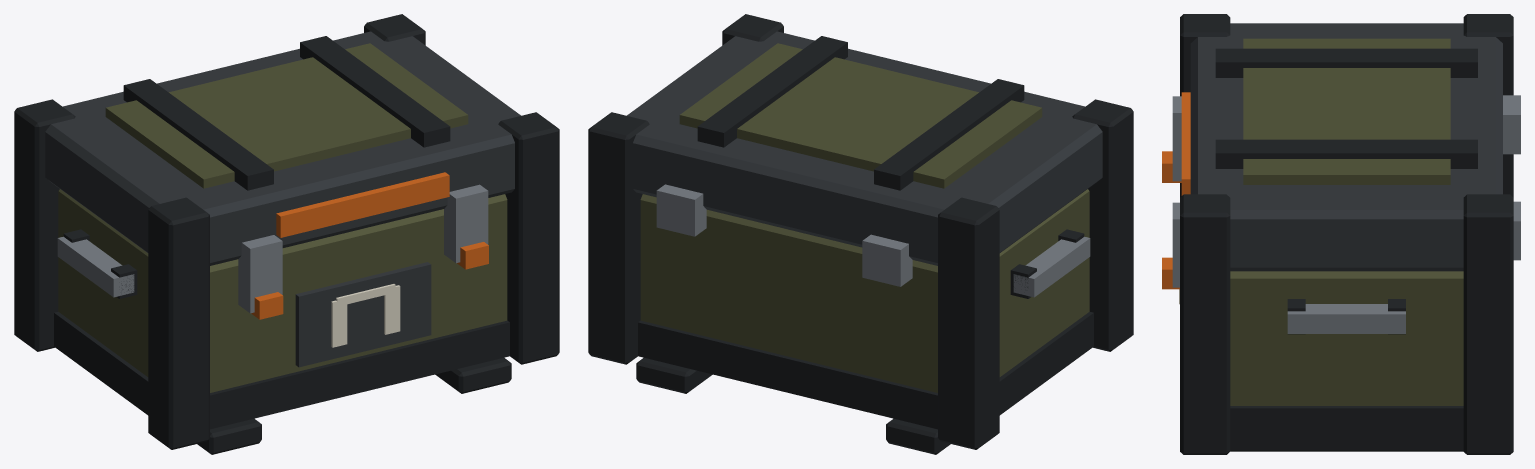
Rendered from desert_crate_small.fbx.
3 views of the same model, side by side, from view 1: azimuth 30°, elevation 25°; view 2: azimuth 150°, elevation 25°; view 3: azimuth 270°, elevation 25° (orthographic). The views are drawn at different scales.
Parts seen in each view (by area): view 1: Body; view 2: Body; view 3: Body.
Boxes of the visible parts, x1,y1,x2,y2 form: Body: (14, 14, 559, 454); Body: (588, 14, 1133, 454); Body: (1162, 14, 1520, 454).
Size of the model in its own units: 2.74 by 1.68 by 2.
Materials: 1 (1 with a texture image).
